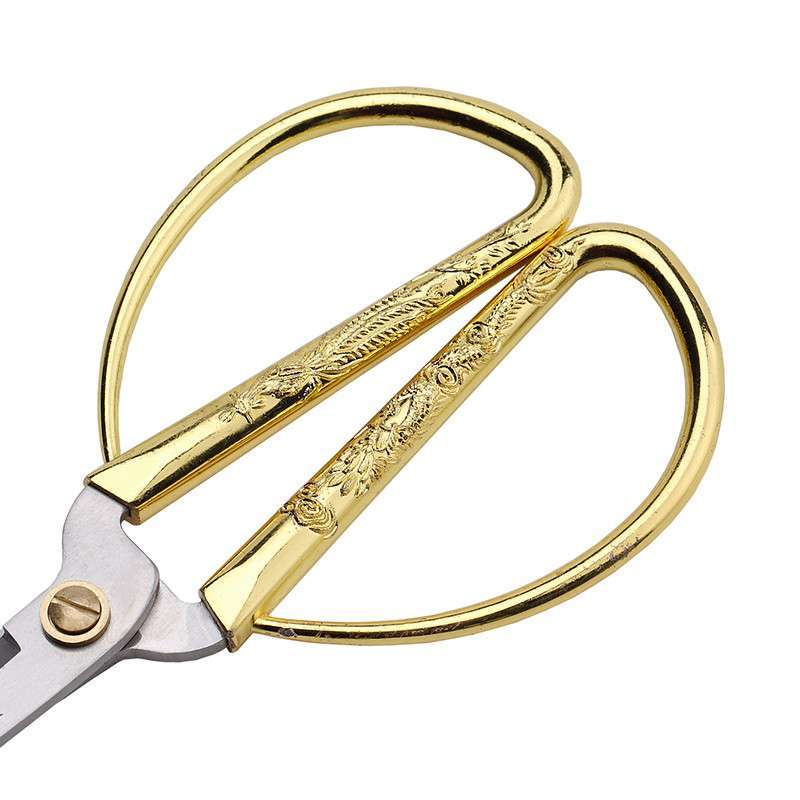scissor: (33, 76, 787, 782)
